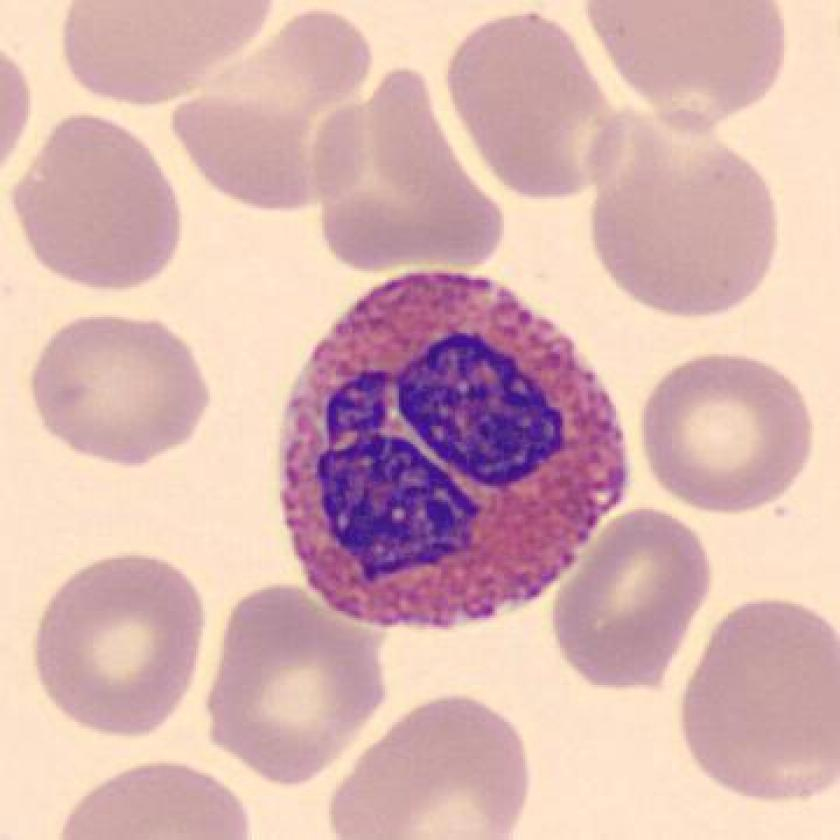eosinophil: (265, 256, 645, 638)
